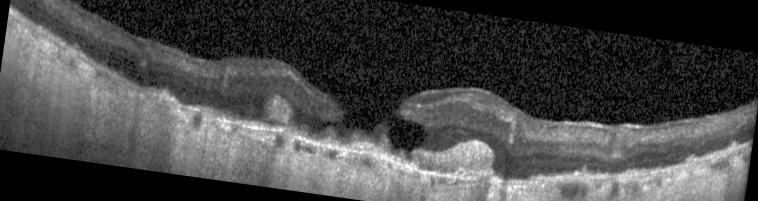intraretinal_cyst: (388, 119, 429, 157)
lamellar_macular_rupture: (336, 100, 400, 131)
subretinal_hyperreflective_material: (309, 126, 494, 180), (260, 94, 293, 126)
